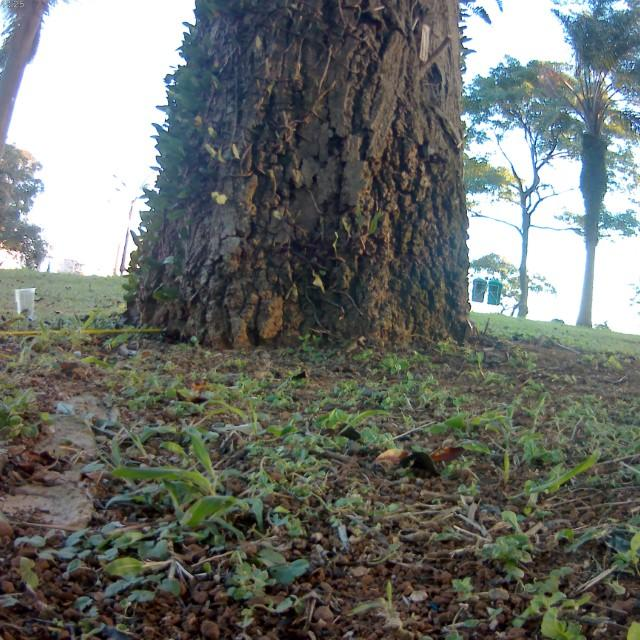arvore: (124, 0, 487, 349)
